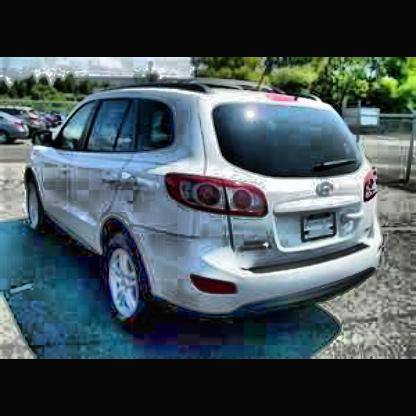Hyundai Santa Fe SUV 2012: (25, 80, 388, 326)
